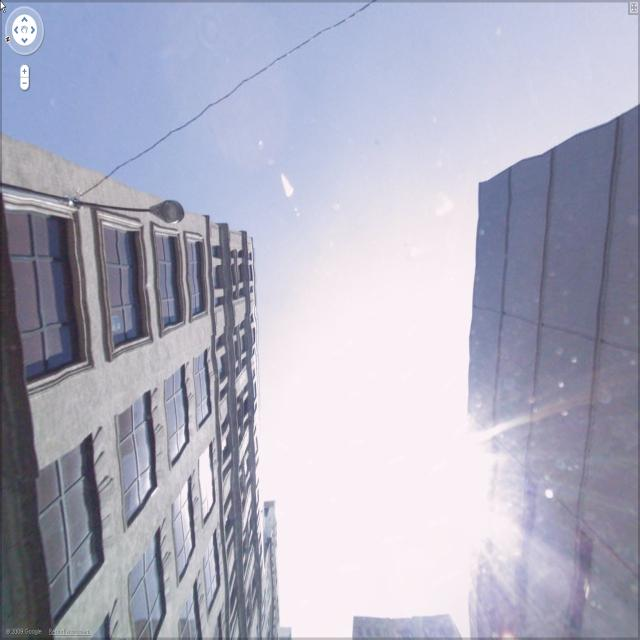b_1: (0, 169, 290, 633), (462, 144, 640, 622)
